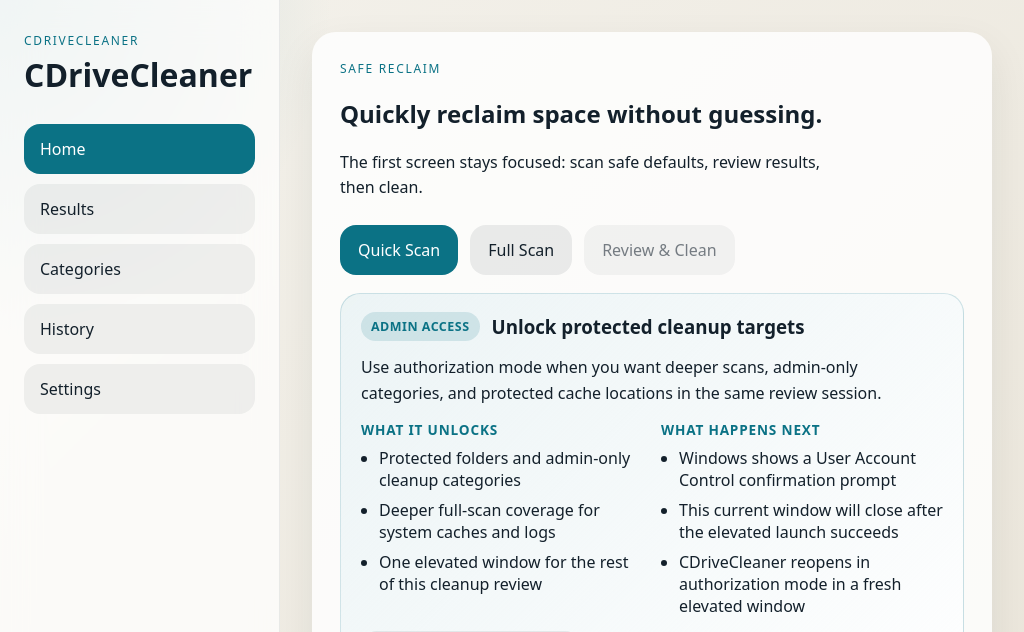
Test case: desktop-trigger clean flow › shows version and log location on the settings page
The image size is (1024, 632).
Click the button "Settings": (140, 389) [24,364,255,414]
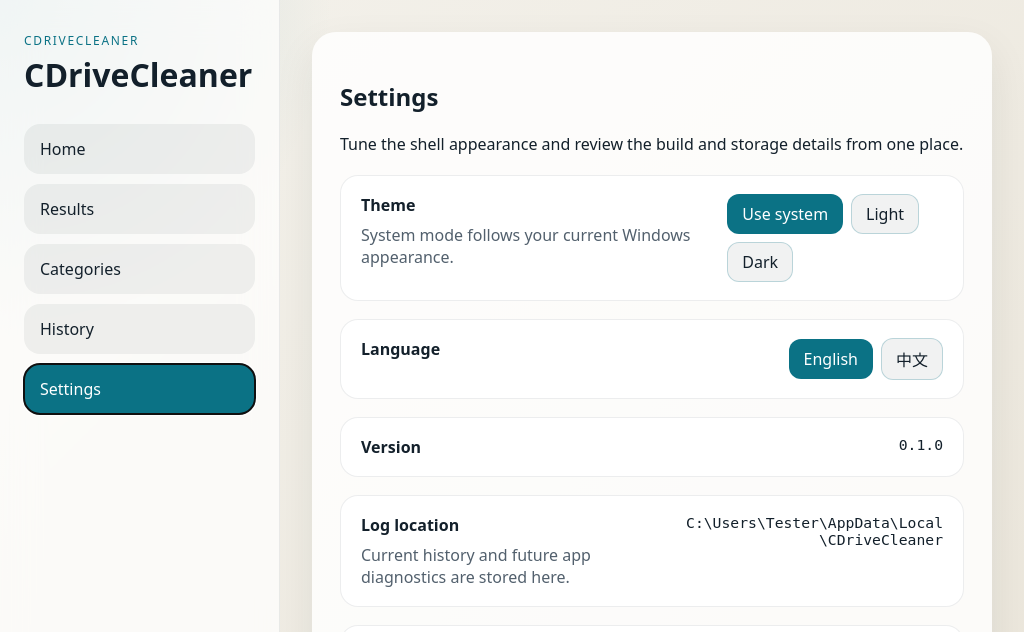
Result: the text "Version" is shown at [361,436,421,458]
Result: the text "0.1.0" is shown at [899,436,943,453]
Result: the text "Log location" is shown at [361,514,459,536]
